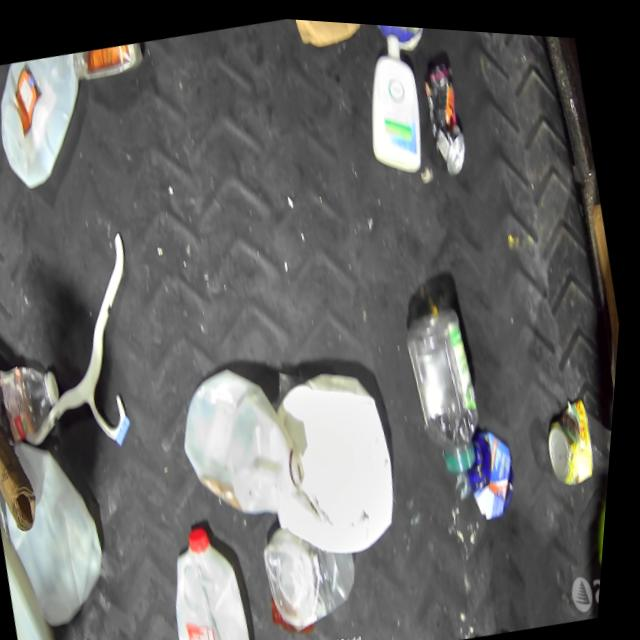can: (412, 50, 481, 180), (541, 389, 612, 485)
milk_jug: (272, 351, 425, 559), (176, 357, 323, 529), (166, 522, 270, 640)
plastic_bottle: (0, 353, 76, 448)
